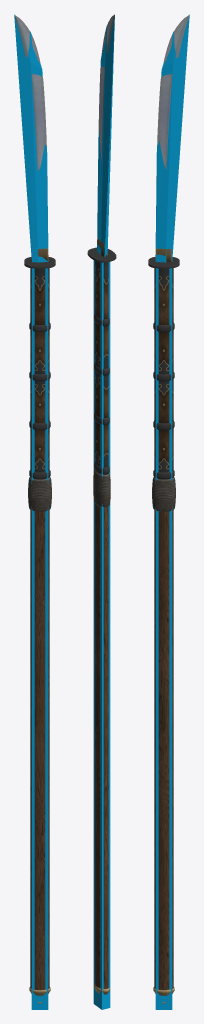
File: JWC_Weapon_Naginata_A_01.fbx
3 views of the same model, side by side, from view 1: azimuth 90°, elevation 25°; view 2: azimuth 210°, elevation 25°; view 3: azimuth 270°, elevation 25° (orthographic).
Parts seen in each view (by area): view 1: JWC_Weapon_Naginata_A_01, C_JWC_Weapon_Naginata_A_01_001, C_JWC_Weapon_Naginata_A_01; view 2: JWC_Weapon_Naginata_A_01, C_JWC_Weapon_Naginata_A_01_001, C_JWC_Weapon_Naginata_A_01; view 3: JWC_Weapon_Naginata_A_01, C_JWC_Weapon_Naginata_A_01_001, C_JWC_Weapon_Naginata_A_01.
Boxes of the visible parts, left/top/right/bottom form: JWC_Weapon_Naginata_A_01: left=14, top=15, right=55, bottom=1003; C_JWC_Weapon_Naginata_A_01_001: left=31, top=268, right=48, bottom=1009; C_JWC_Weapon_Naginata_A_01: left=14, top=14, right=48, bottom=262; JWC_Weapon_Naginata_A_01: left=87, top=15, right=116, bottom=1000; C_JWC_Weapon_Naginata_A_01_001: left=93, top=260, right=110, bottom=1009; C_JWC_Weapon_Naginata_A_01: left=97, top=14, right=114, bottom=257; JWC_Weapon_Naginata_A_01: left=148, top=15, right=189, bottom=1003; C_JWC_Weapon_Naginata_A_01_001: left=155, top=268, right=172, bottom=1009; C_JWC_Weapon_Naginata_A_01: left=155, top=14, right=189, bottom=262.
Bounding box in the file's own units: 0.0663 × 2.97 × 0.1127.
